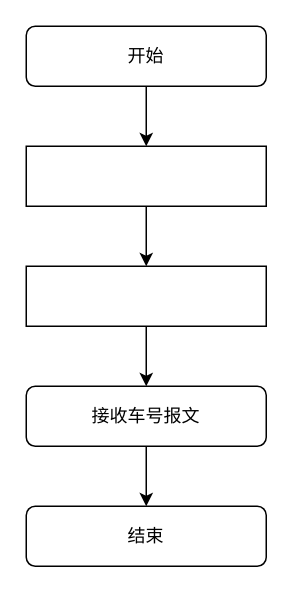
This 293x593 diagram has some shape labels left out. Here are the shapes that lost their labels. From the top down, the box of each, then its label:
(25, 145, 266, 206): 收到列车到达信息
(25, 265, 266, 326): 收到列车驶离信息
